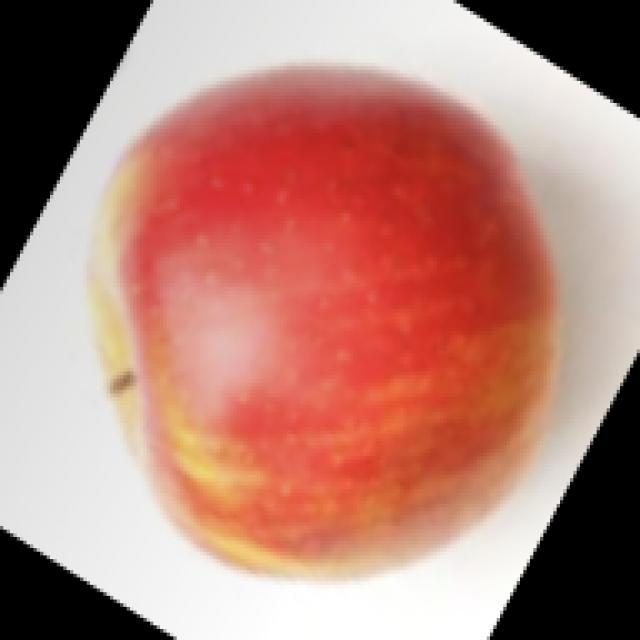Fresh Apple: (103, 63, 565, 577)
